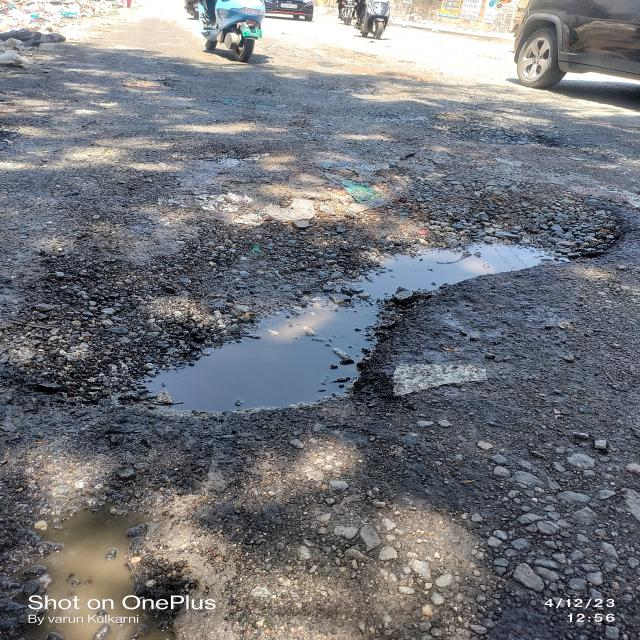Puddle pothole: (110, 198, 603, 434)
